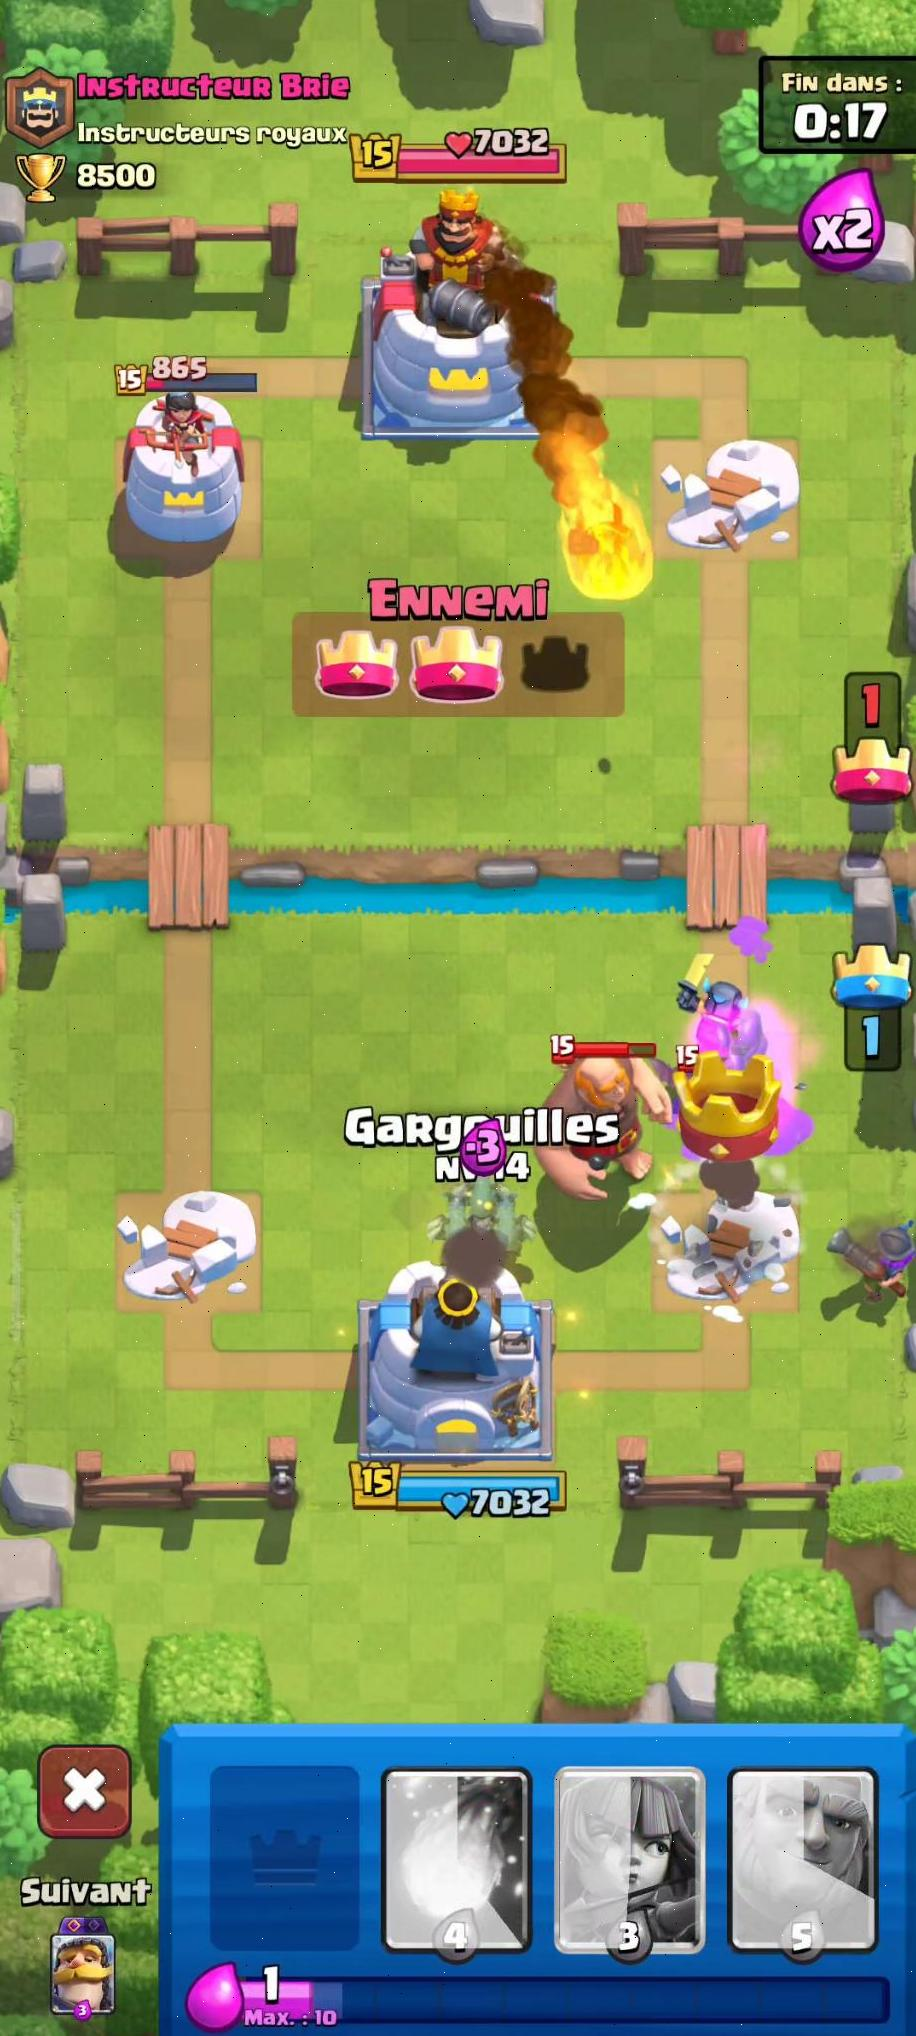enemy_fireball: (460, 229, 681, 648)
enemy_giant: (523, 1026, 672, 1208)
player_mini_pekka: (668, 950, 773, 1057)
